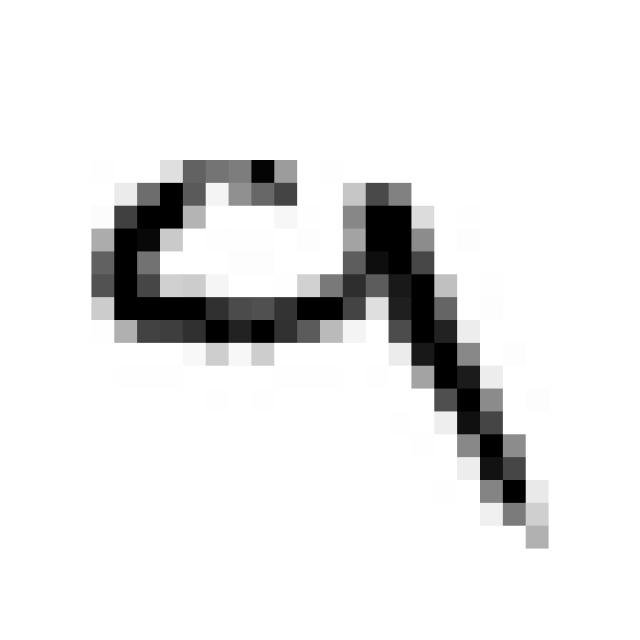9 -nine-: (67, 137, 564, 578)
